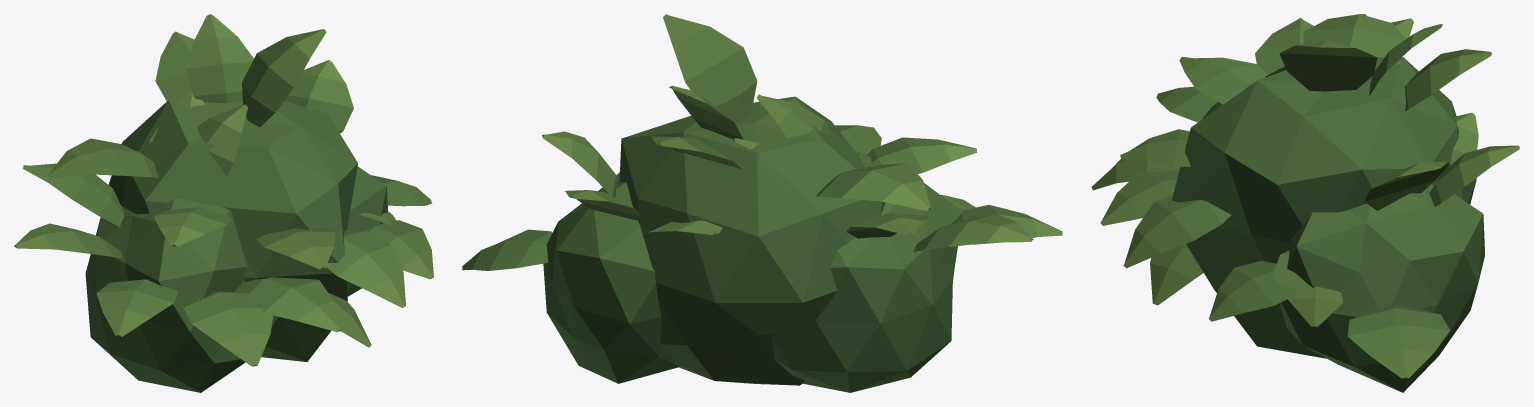
File: Bush1_leaf.glb
3 views of the same model, side by side, from view 1: azimuth 30°, elevation 25°; view 2: azimuth 150°, elevation 25°; view 3: azimuth 270°, elevation 25° (orthographic). The views are drawn at different scales.
Visible parts, largest first — view 1: Bush1_leaf; view 2: Bush1_leaf; view 3: Bush1_leaf.
Boxes of the visible parts, x1,y1,x2,y2 form: Bush1_leaf: (14,14,433,392); Bush1_leaf: (462,14,1062,392); Bush1_leaf: (1091,14,1519,392).
Bounding box in the file's own units: 5.02 × 3.19 × 3.68.
